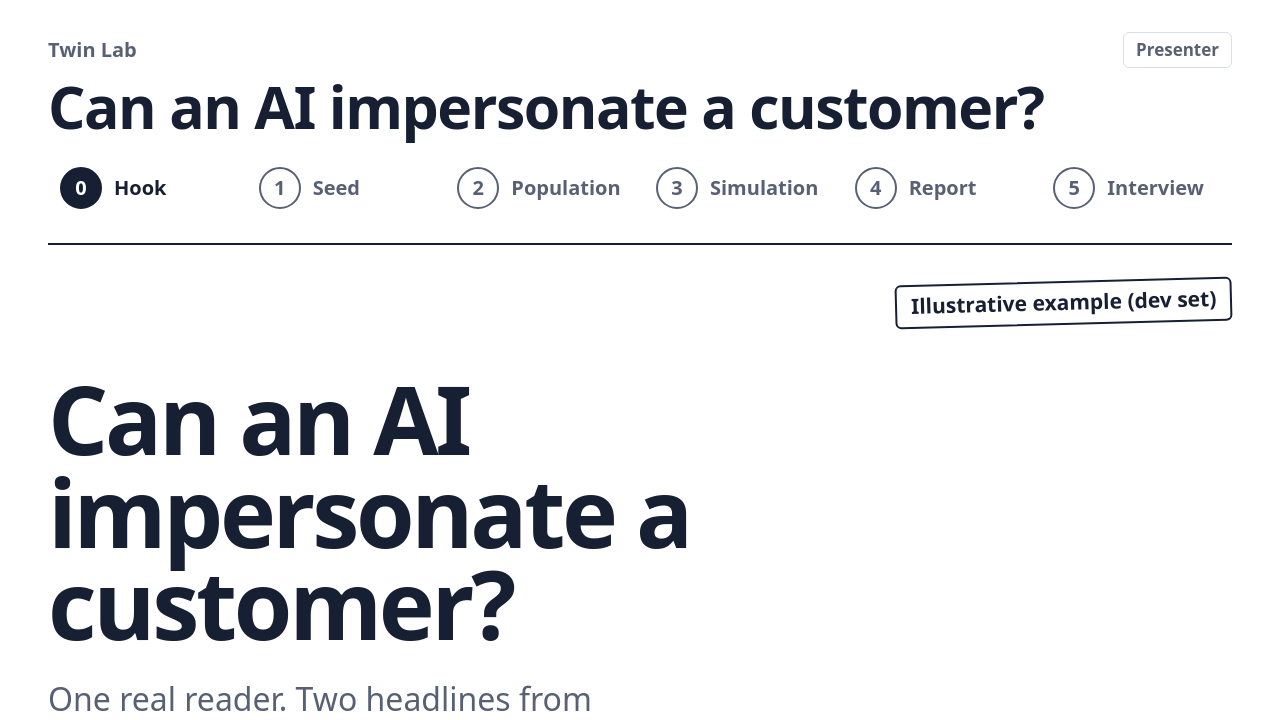
Simulation step in the app › hides live runs in DEMO_MODE
Click the button "3 Simulation". click: (739, 188)
box: [644,157,835,219]
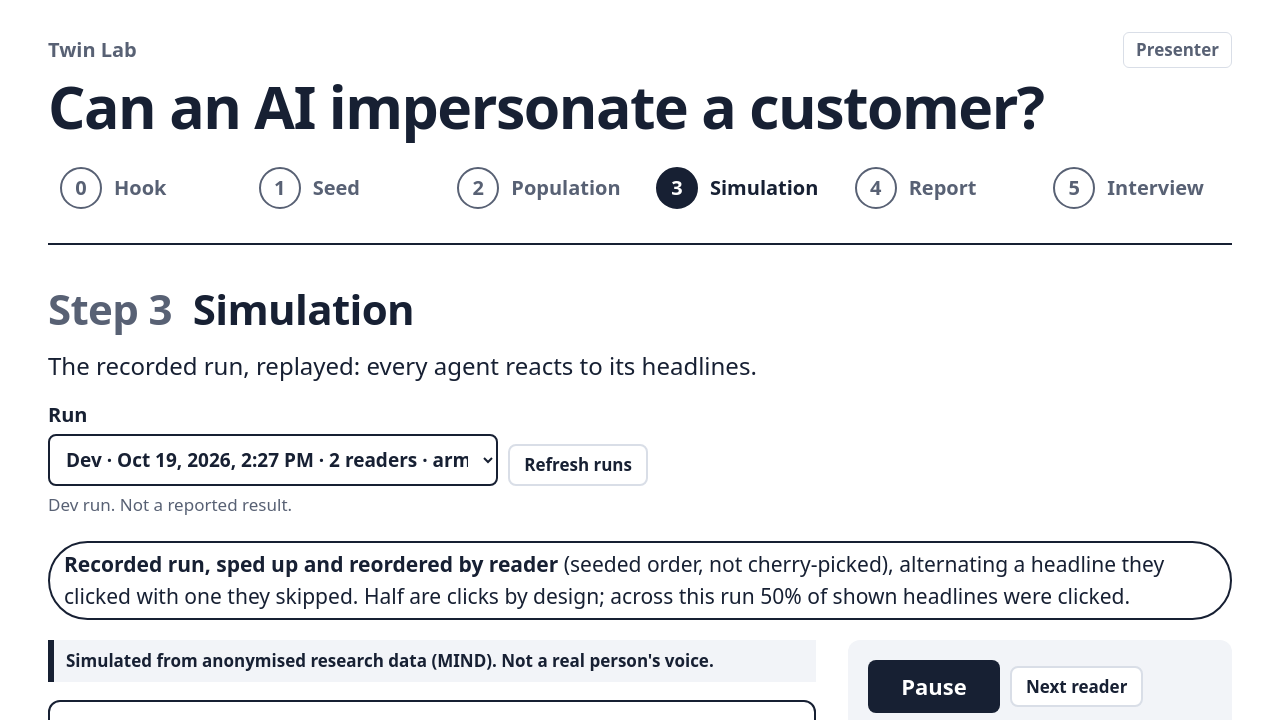
Check: the text "Recorded run, sped up and reordered by reader" is shown, box [64,550,558,578]
